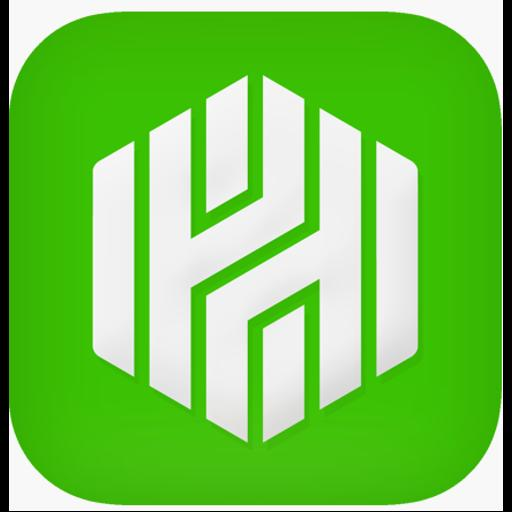Huntington Bank: (9, 0, 503, 511)
